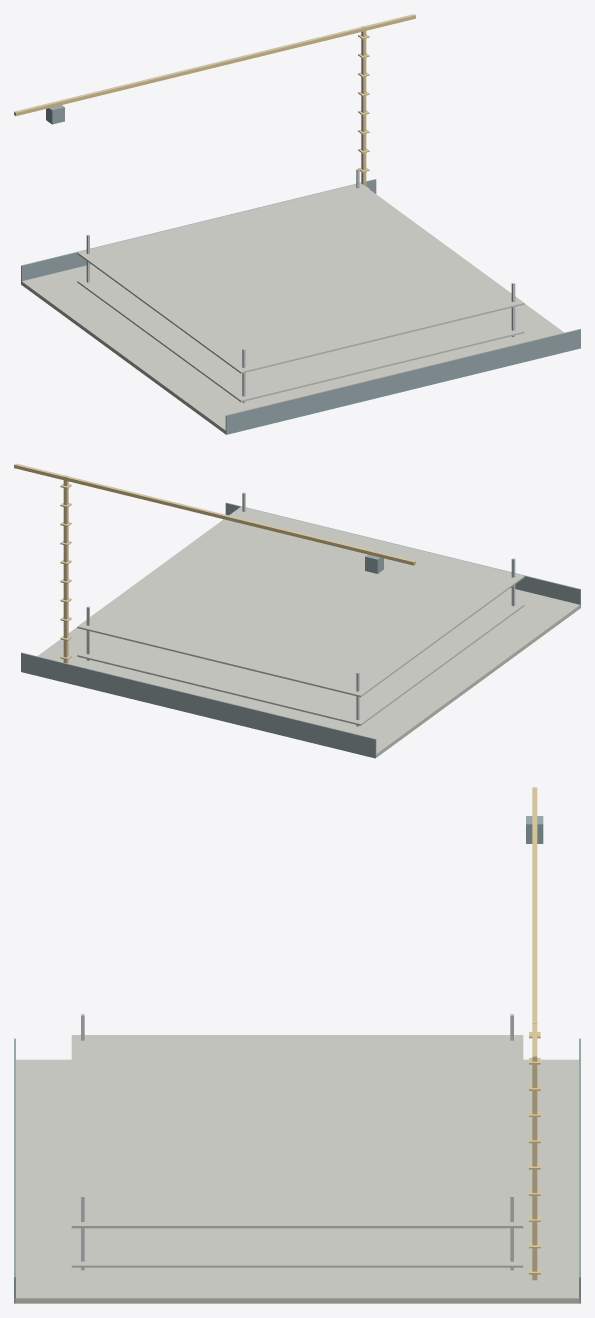
File: remaster_site_4_1.glb
The picture shows the model from 3 angles, top to bottom: view 1: azimuth 30°, elevation 25°; view 2: azimuth 150°, elevation 25°; view 3: azimuth 270°, elevation 25°; orthographic projection. The views are drawn at different scales.
Visible parts, largest first — view 1: remaster_site_4_1 stone, remaster_site_4_1 roof, remaster_site_4_1 gold, remaster_site_4_1 metal; view 2: remaster_site_4_1 stone, remaster_site_4_1 roof, remaster_site_4_1 gold, remaster_site_4_1 metal; view 3: remaster_site_4_1 stone, remaster_site_4_1 gold, remaster_site_4_1 roof, remaster_site_4_1 metal.
Part boxes in pixels (box(x1,y1,x2,y2)): remaster_site_4_1 stone: box(21, 183, 563, 433); remaster_site_4_1 roof: box(21, 105, 580, 434); remaster_site_4_1 gold: box(14, 14, 415, 188); remaster_site_4_1 metal: box(86, 169, 515, 403); remaster_site_4_1 stone: box(37, 506, 580, 757); remaster_site_4_1 roof: box(21, 502, 580, 758); remaster_site_4_1 gold: box(14, 463, 415, 663); remaster_site_4_1 metal: box(86, 492, 515, 726); remaster_site_4_1 stone: box(15, 1035, 579, 1303); remaster_site_4_1 gold: box(529, 787, 540, 1280); remaster_site_4_1 roof: box(14, 816, 580, 1303); remaster_site_4_1 metal: box(81, 1014, 513, 1270).
Bounding box in the file's own units: 44 × 20 × 39.14.
